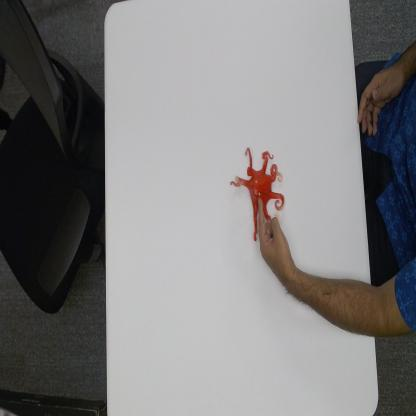Arm: (288, 280, 377, 337)
Hand: (257, 193, 301, 281)
Octopus: (229, 145, 286, 243)
